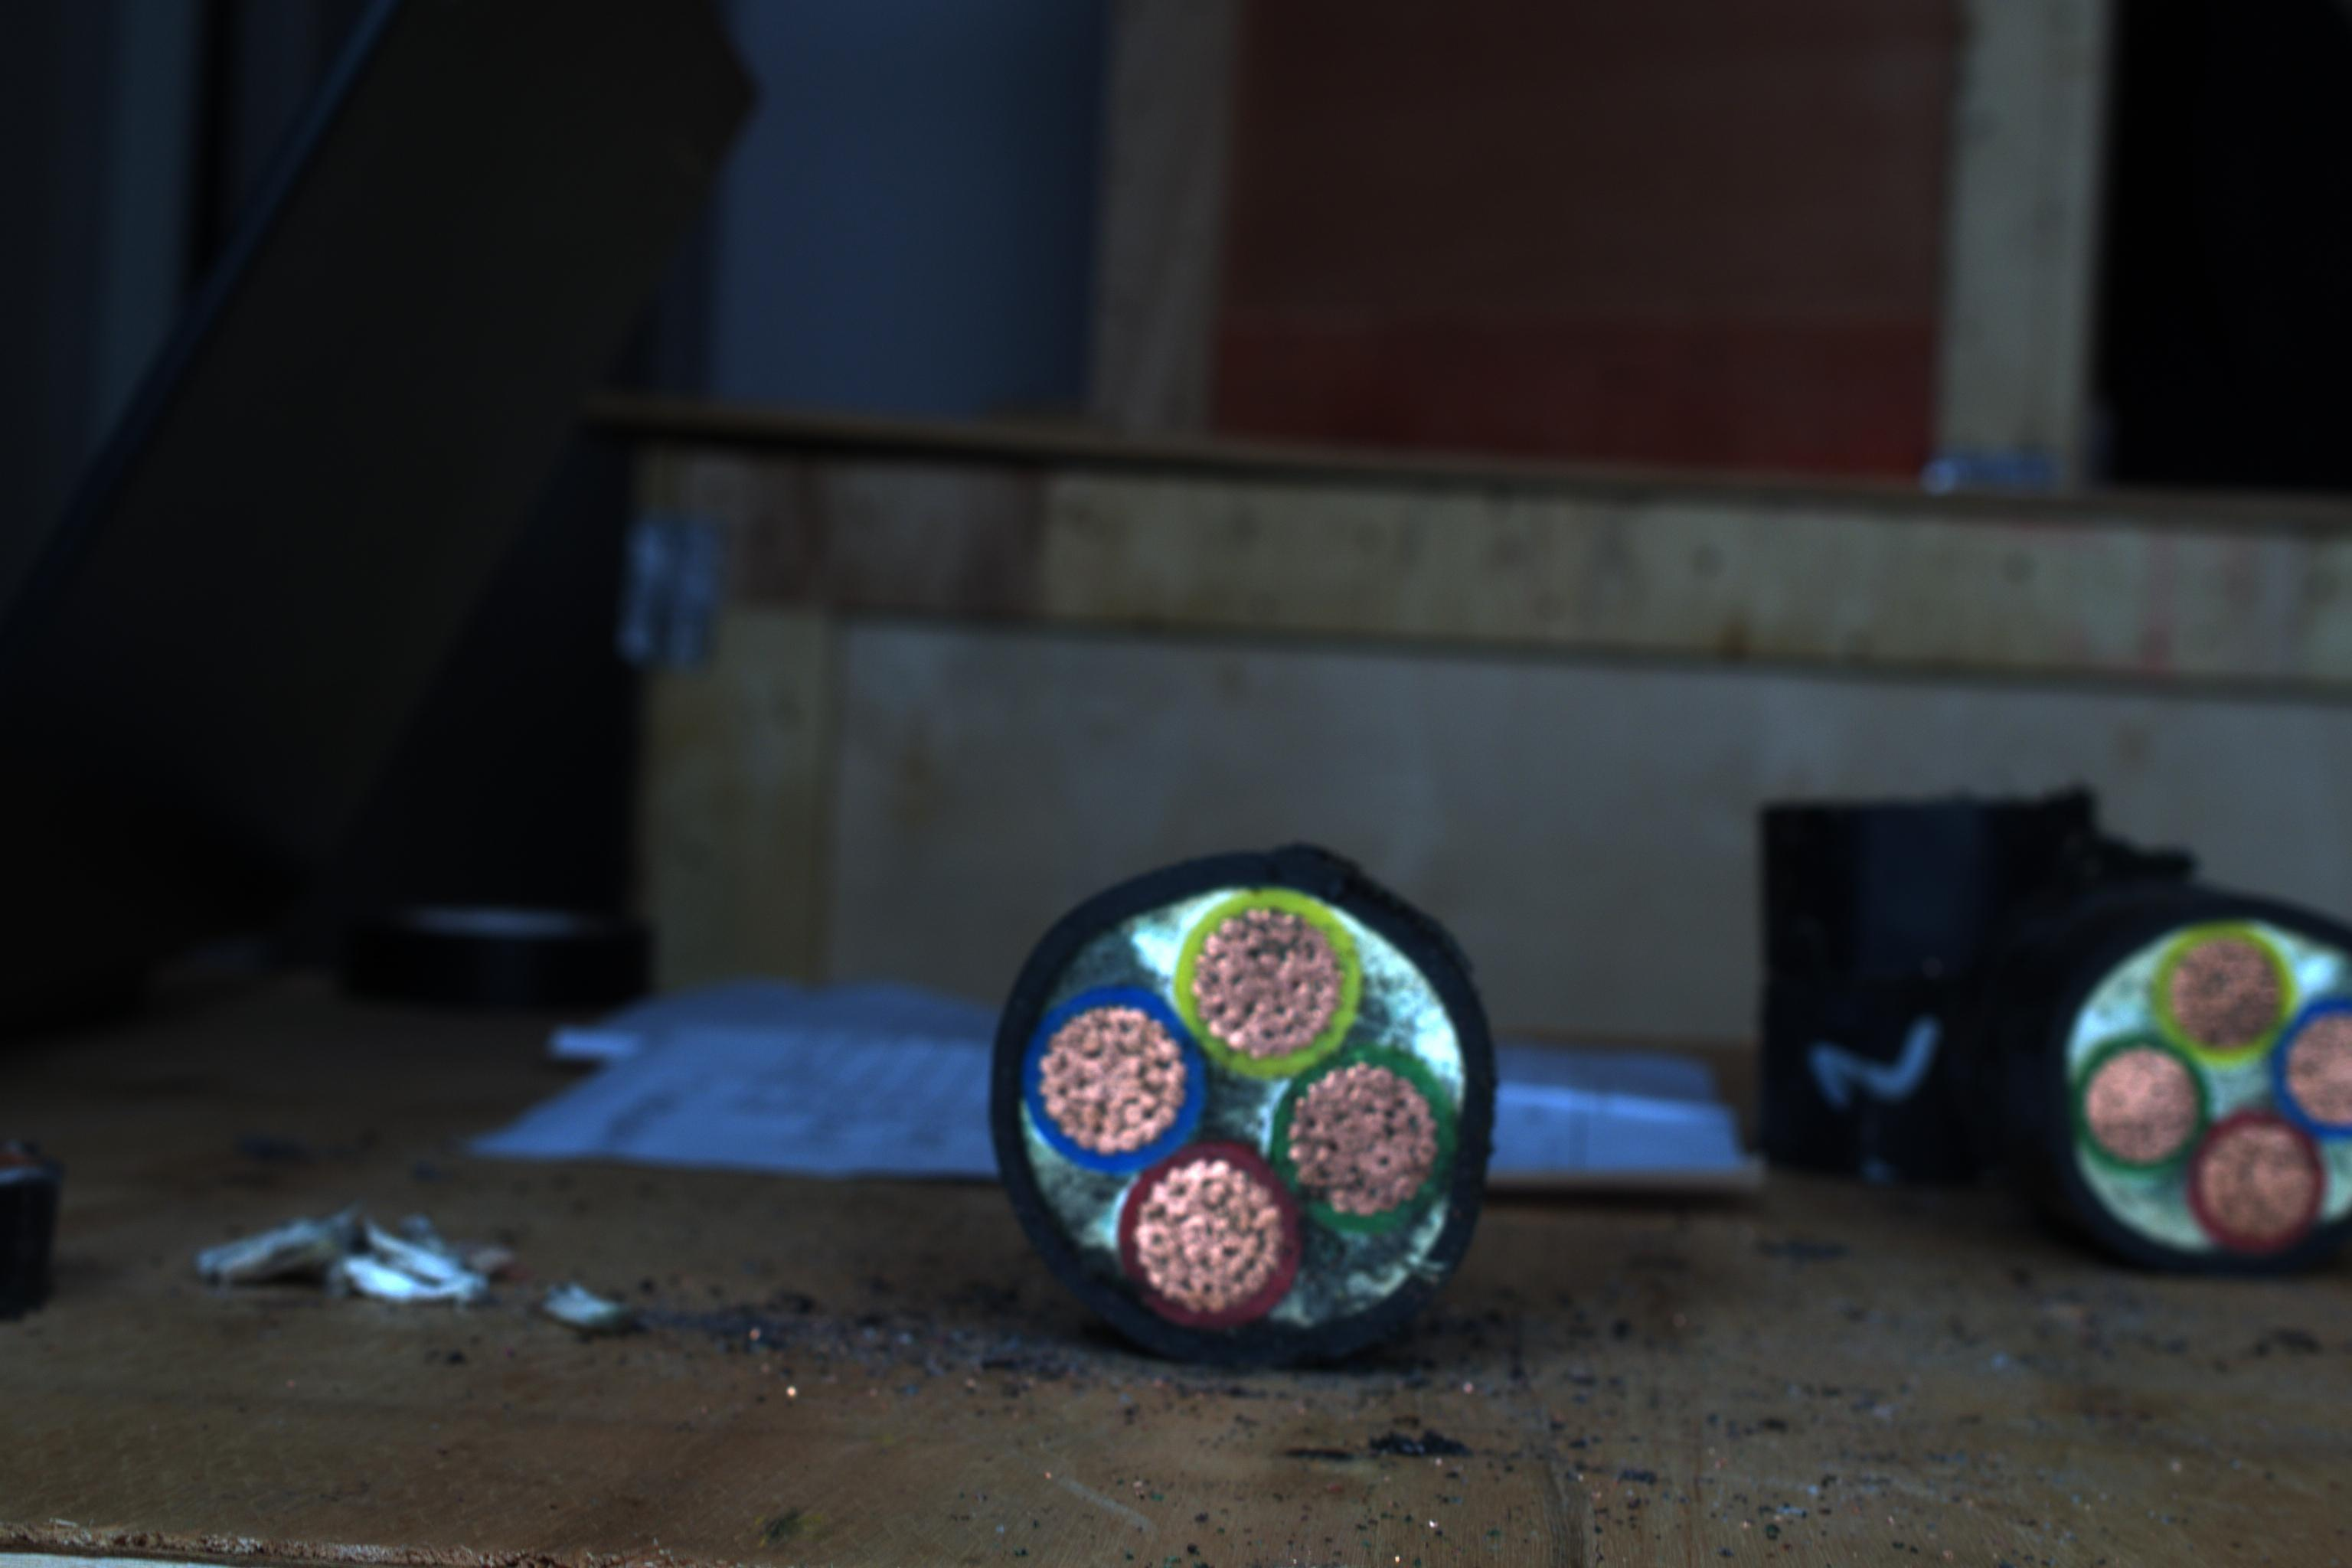YJV_0.6_1kV_4x185: (973, 845, 1505, 1367)
